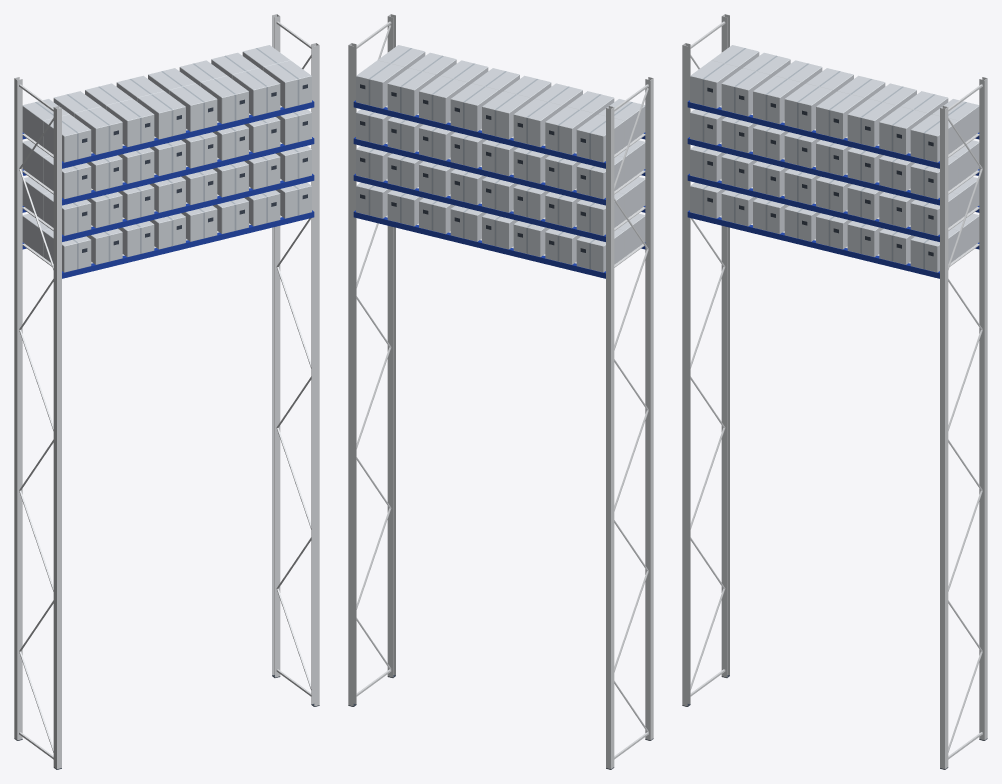
The model's file is SM_MPR_CADRack_F16_W144_Passage.fbx.
3 views of the same model, side by side, from view 1: azimuth 30°, elevation 25°; view 2: azimuth 150°, elevation 25°; view 3: azimuth 330°, elevation 25° (orthographic).
Visible parts, largest first — view 1: SM_MPR_CADRack_F16_W144_Passage; view 2: SM_MPR_CADRack_F16_W144_Passage; view 3: SM_MPR_CADRack_F16_W144_Passage.
Part boxes in pixels (x1,y1,x2,y2): SM_MPR_CADRack_F16_W144_Passage: (14, 14, 319, 769); SM_MPR_CADRack_F16_W144_Passage: (348, 14, 653, 769); SM_MPR_CADRack_F16_W144_Passage: (682, 14, 987, 769).
Size of the model in its own units: 381 by 107 by 915.
